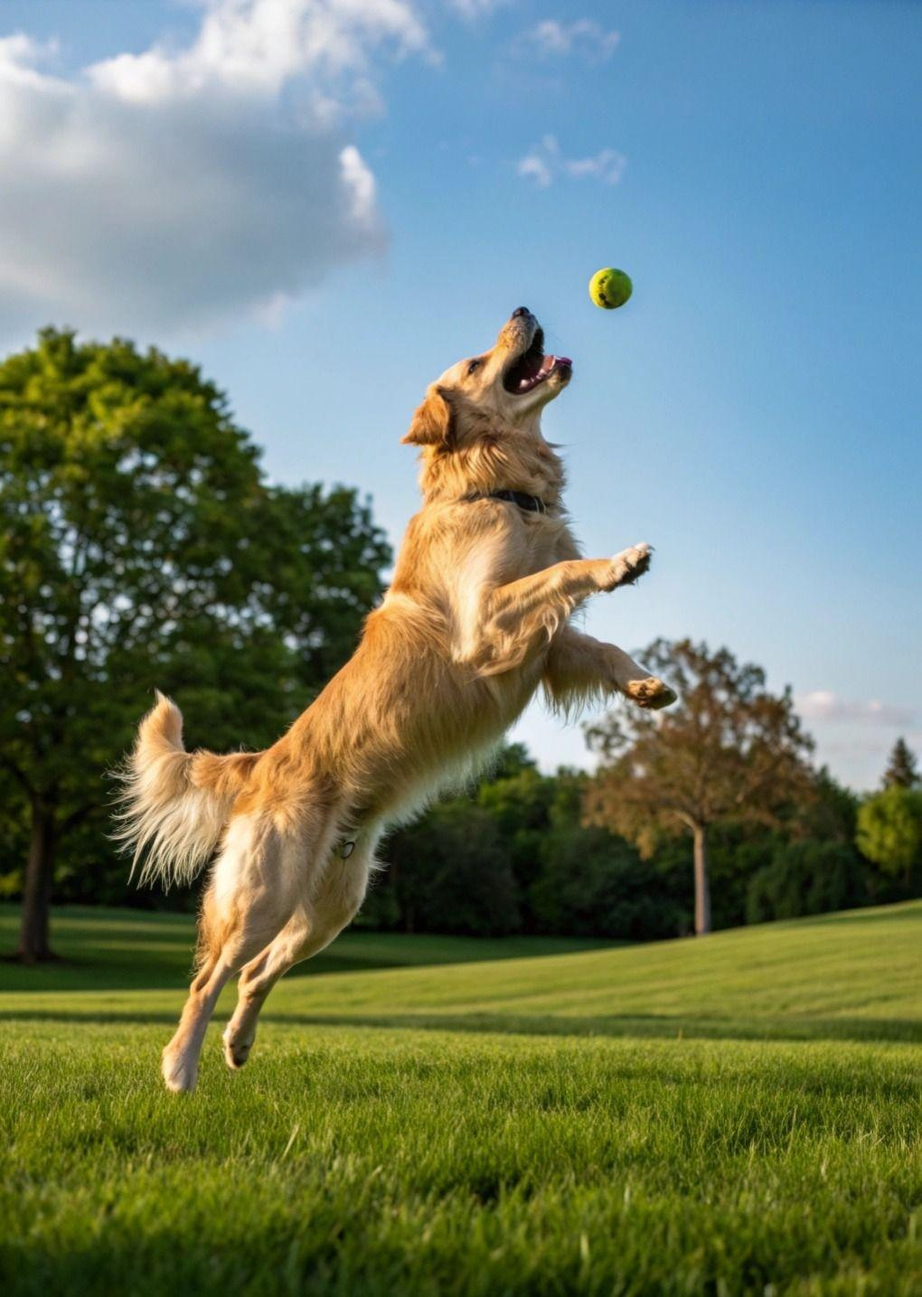adult_dog: (106, 305, 679, 1095)
